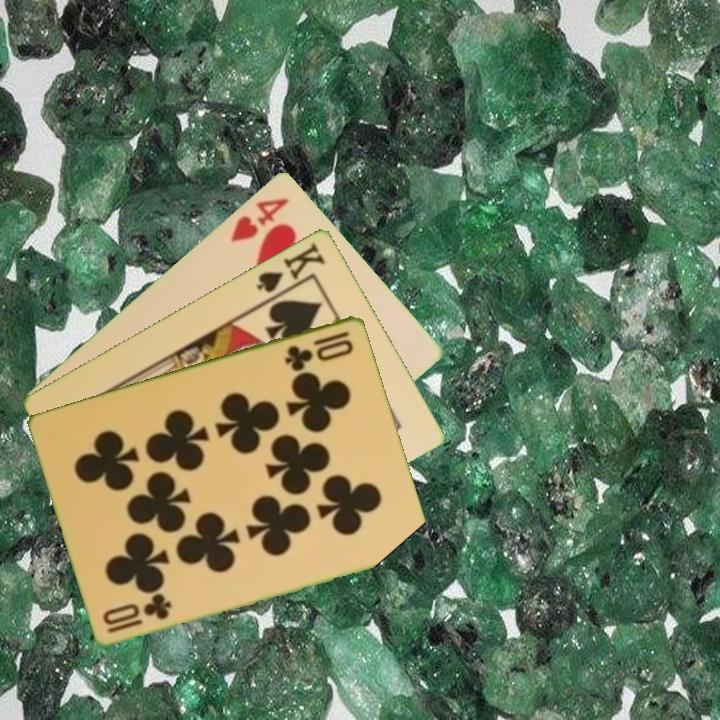10c: (281, 327, 356, 373), (99, 592, 175, 636)
4h: (227, 193, 292, 245)
Ks: (253, 238, 329, 304)
